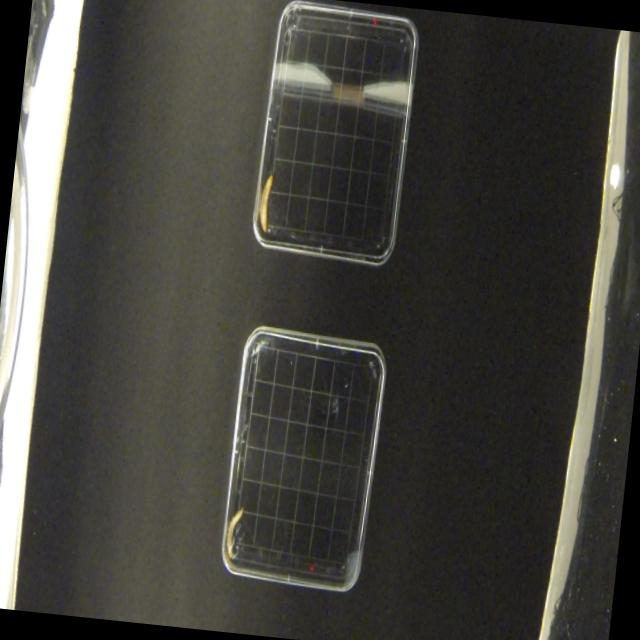larva: (256, 171, 277, 235), (225, 506, 243, 560)
